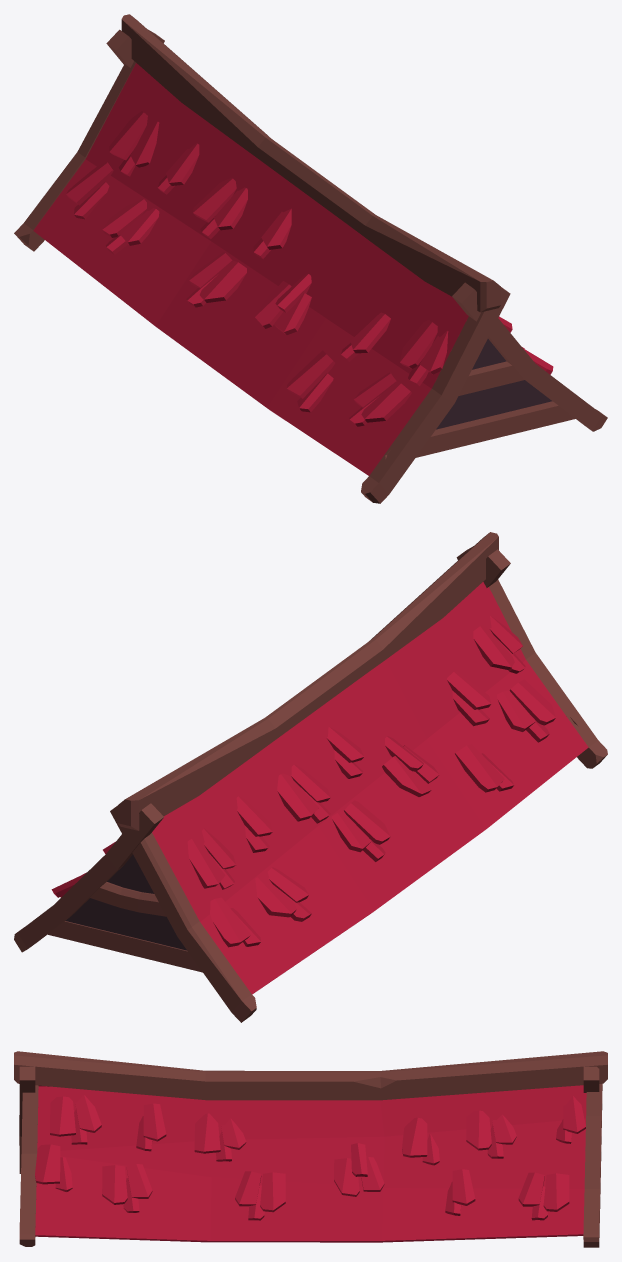
The model's file is Wall_Gate_01_Top_01_RoofTop_01.fbx.
The picture shows the model from 3 angles, top to bottom: view 1: azimuth 30°, elevation 25°; view 2: azimuth 150°, elevation 25°; view 3: azimuth 270°, elevation 25°; orthographic projection. The views are drawn at different scales.
Parts seen in each view (by area): view 1: Wall_Gate_01_Top_01_RoofTop_01; view 2: Wall_Gate_01_Top_01_RoofTop_01; view 3: Wall_Gate_01_Top_01_RoofTop_01.
Part boxes in pixels (x1,y1,x2,y2): Wall_Gate_01_Top_01_RoofTop_01: [14, 14, 607, 503]; Wall_Gate_01_Top_01_RoofTop_01: [14, 532, 607, 1022]; Wall_Gate_01_Top_01_RoofTop_01: [14, 1051, 607, 1247].
Size of the model in its own units: 623 by 494 by 1632.
